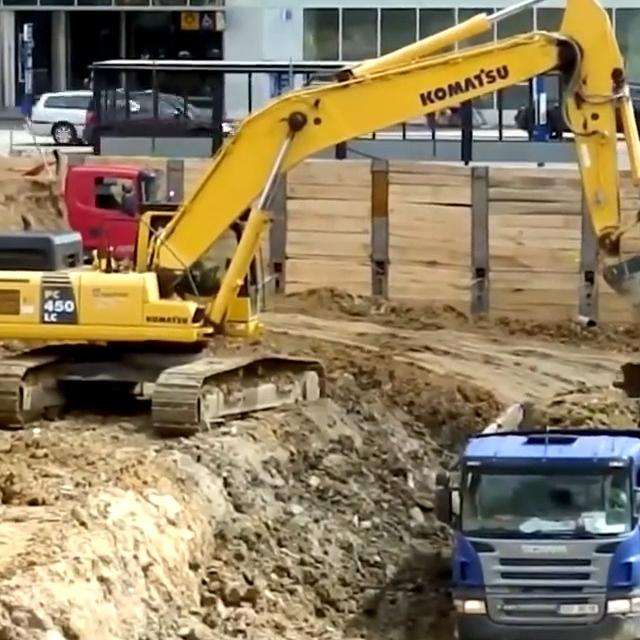Excavator: (0, 0, 640, 439)
Person: (596, 481, 627, 511)
Safety Vest: (609, 488, 625, 509)
machinery: (427, 362, 640, 640), (61, 163, 174, 261)
vehicle: (83, 89, 236, 156), (513, 80, 640, 142), (23, 89, 140, 145)
